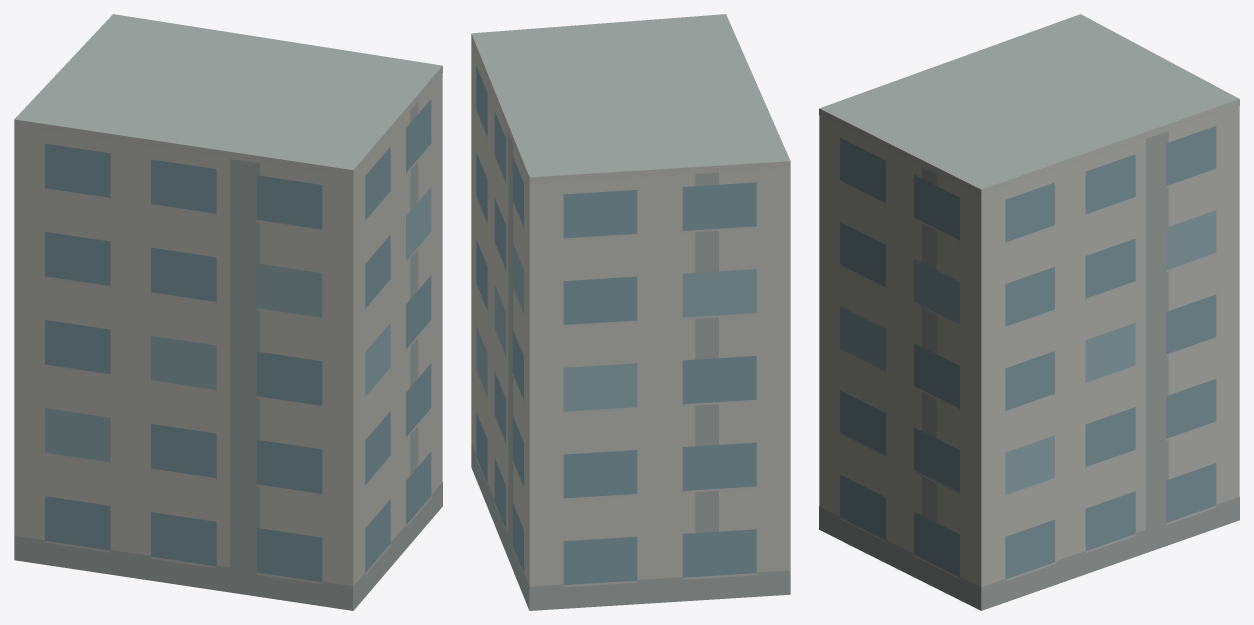
The model's file is survey-upis-32762944.glb.
3 views of the same model, side by side, from view 1: azimuth 30°, elevation 25°; view 2: azimuth 150°, elevation 25°; view 3: azimuth 270°, elevation 25° (orthographic). The views are drawn at different scales.
Visible parts, largest first — view 1: survey-upis-32762944.tmp; view 2: survey-upis-32762944.tmp; view 3: survey-upis-32762944.tmp.
Boxes of the visible parts, x1,y1,x2,y2 form: survey-upis-32762944.tmp: (14,14,442,610); survey-upis-32762944.tmp: (471,14,790,610); survey-upis-32762944.tmp: (819,14,1239,610).
Size of the model in its own units: 13.2 by 14.75 by 13.36.
